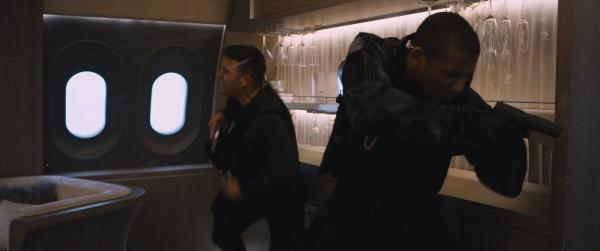Gun: (490, 100, 564, 142), (208, 120, 224, 156)
